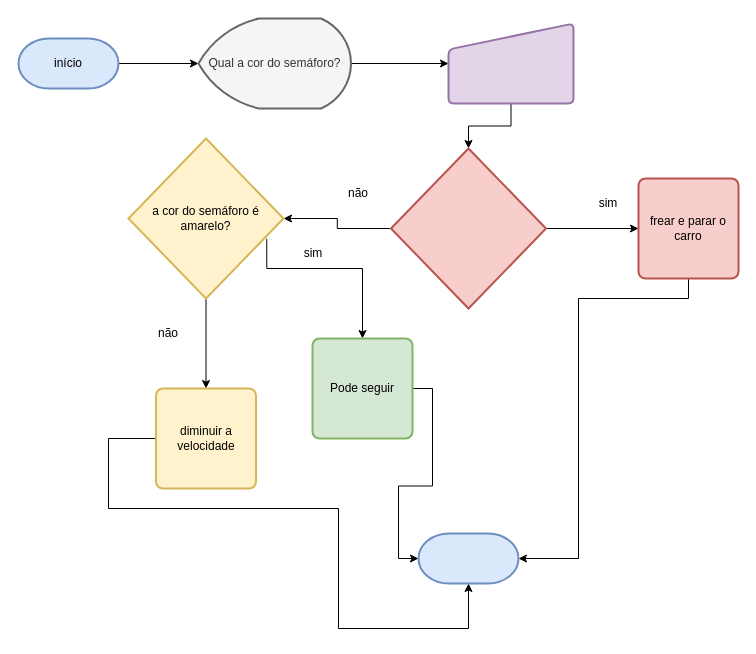
Some shapes in this 756 by 654 pixel diagram are drawn without their labels. The shapes that lost their labels are listed below. From the top down, each one's box as (x1, y1, x2, y2) in pixels, then its label:
(447, 22, 574, 104): Cor do semáforo
(390, 147, 546, 309): a cor do semáforo é vermelho?
(417, 532, 519, 584): fim
